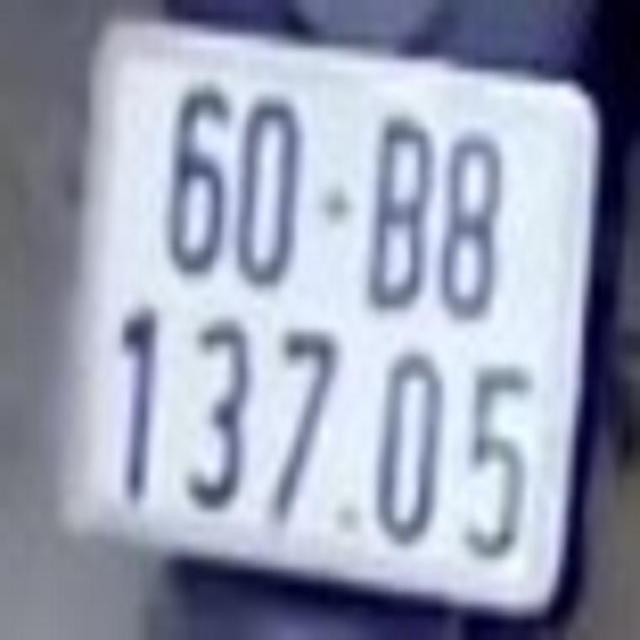0: (375, 346, 443, 552), (233, 92, 298, 279)
1: (117, 300, 155, 510)
3: (184, 316, 246, 509)
5: (468, 362, 536, 554)
6: (167, 78, 225, 284)
7: (276, 326, 341, 524)
8: (441, 130, 499, 321)
B: (366, 108, 430, 306)
